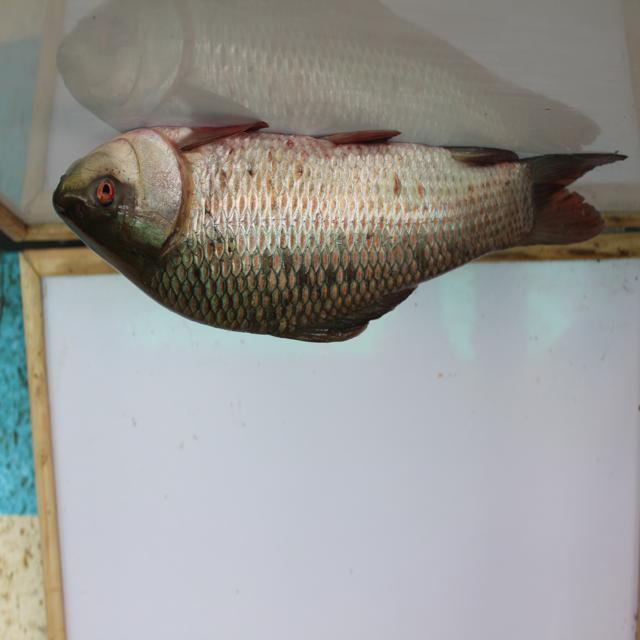Rohu: (64, 125, 639, 353)
